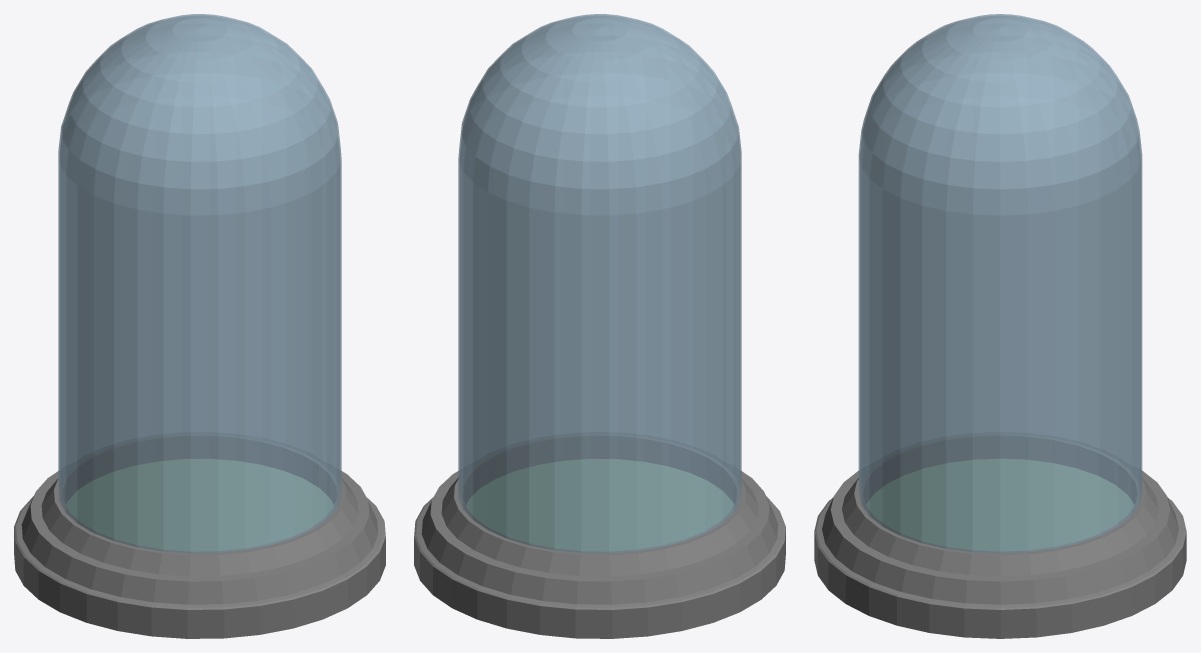
File: SciFiCapsule_1.fbx
3 renders of one model, left to right at view 1: azimuth 30°, elevation 25°; view 2: azimuth 150°, elevation 25°; view 3: azimuth 270°, elevation 25°, orthographic.
Parts seen in each view (by area): view 1: SciFiCapsuleGlass_1, SciFiCapsuleBase_1; view 2: SciFiCapsuleGlass_1, SciFiCapsuleBase_1; view 3: SciFiCapsuleGlass_1, SciFiCapsuleBase_1.
Boxes of the visible parts, left/top/right/bottom form: SciFiCapsuleGlass_1: left=58, top=14, right=341, bottom=553; SciFiCapsuleBase_1: left=14, top=434, right=385, bottom=638; SciFiCapsuleGlass_1: left=458, top=14, right=741, bottom=553; SciFiCapsuleBase_1: left=414, top=434, right=785, bottom=638; SciFiCapsuleGlass_1: left=858, top=14, right=1142, bottom=553; SciFiCapsuleBase_1: left=814, top=434, right=1186, bottom=638.
Size of the model in its own units: 200 by 316 by 200.
